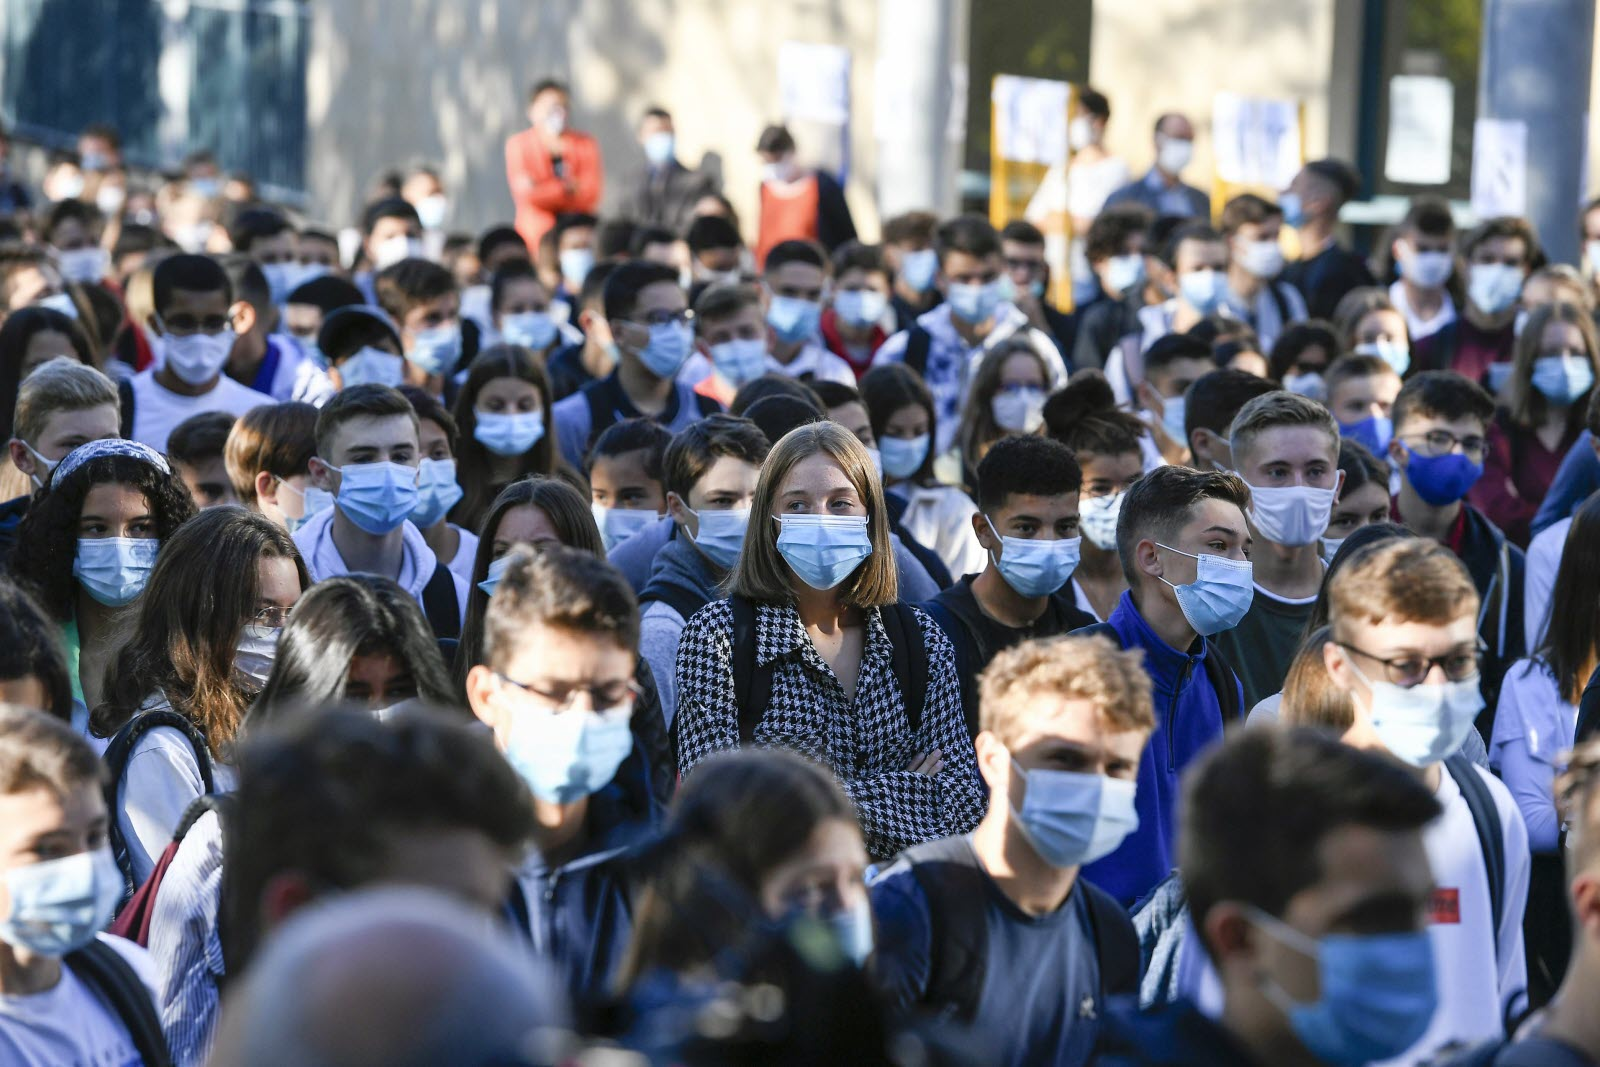with_mask: (1272, 830, 1444, 1067), (988, 687, 1143, 883), (1363, 583, 1470, 761), (510, 633, 629, 792), (16, 770, 116, 951), (195, 556, 300, 705), (1156, 498, 1248, 630), (75, 480, 162, 618), (330, 419, 424, 545), (777, 461, 875, 580), (990, 496, 1089, 596), (1256, 432, 1341, 546), (683, 456, 755, 570), (593, 438, 661, 559), (155, 291, 238, 387), (622, 286, 694, 393), (472, 378, 561, 463), (1080, 419, 1137, 546), (1418, 399, 1485, 500), (1527, 323, 1597, 405), (939, 245, 1004, 323), (405, 290, 463, 373), (984, 356, 1045, 432), (881, 406, 938, 480)
